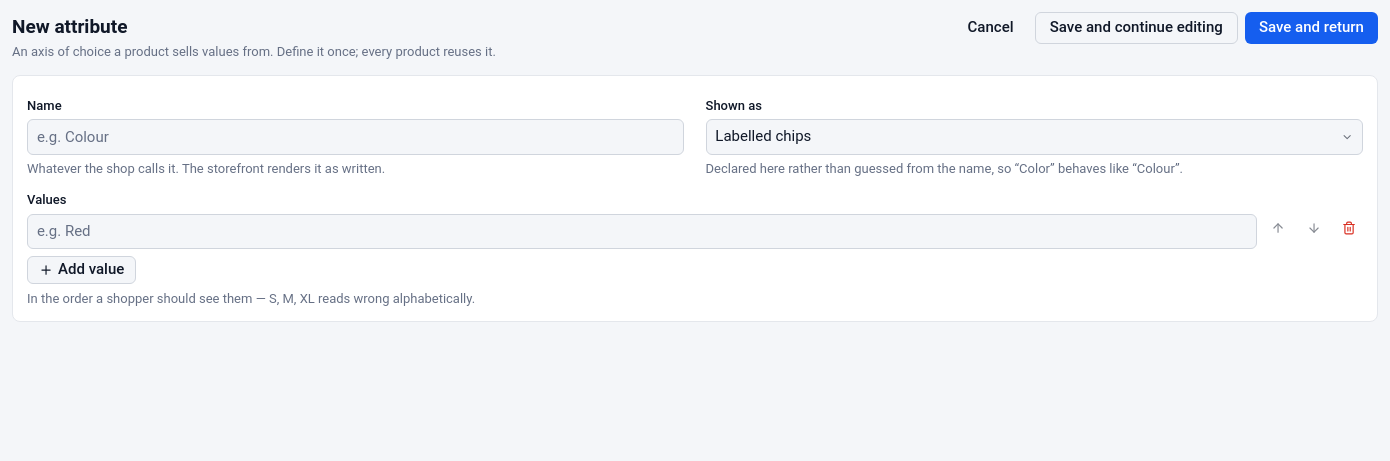
Scenario: AttributeFormPage — two values that read as the same choice › refuses "Red" twice, against the list, and keeps both rows
This screenshot has width=1390, height=461.
Type "Colour" into the field labelled "Name" at {"x": 356, "y": 137}, box [27,119,684,155]
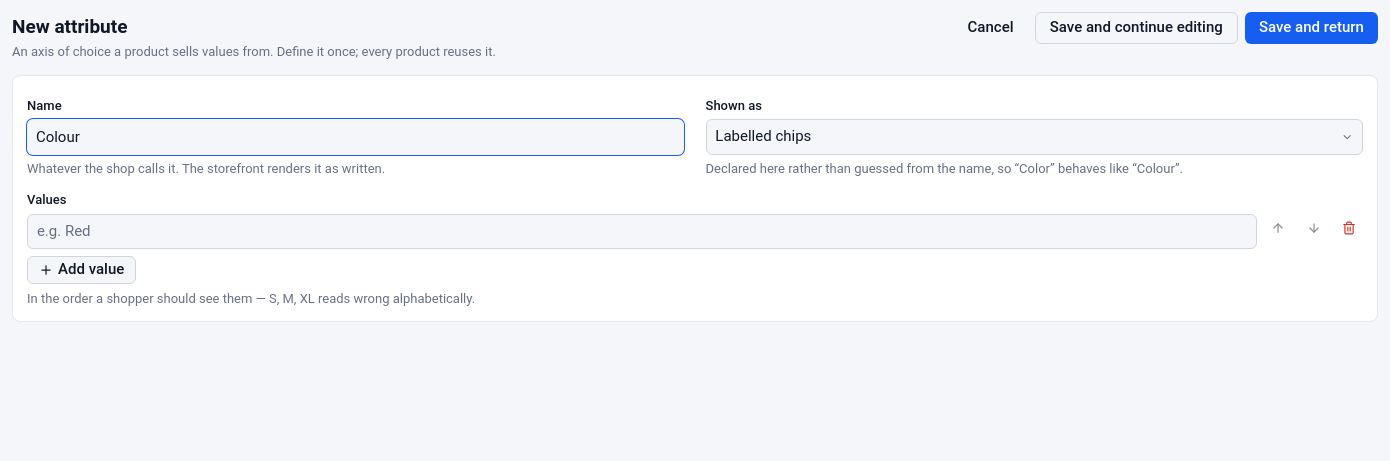
Type "Red" into the field named "Value 1" at {"x": 642, "y": 232}, box [27,214,1257,249]
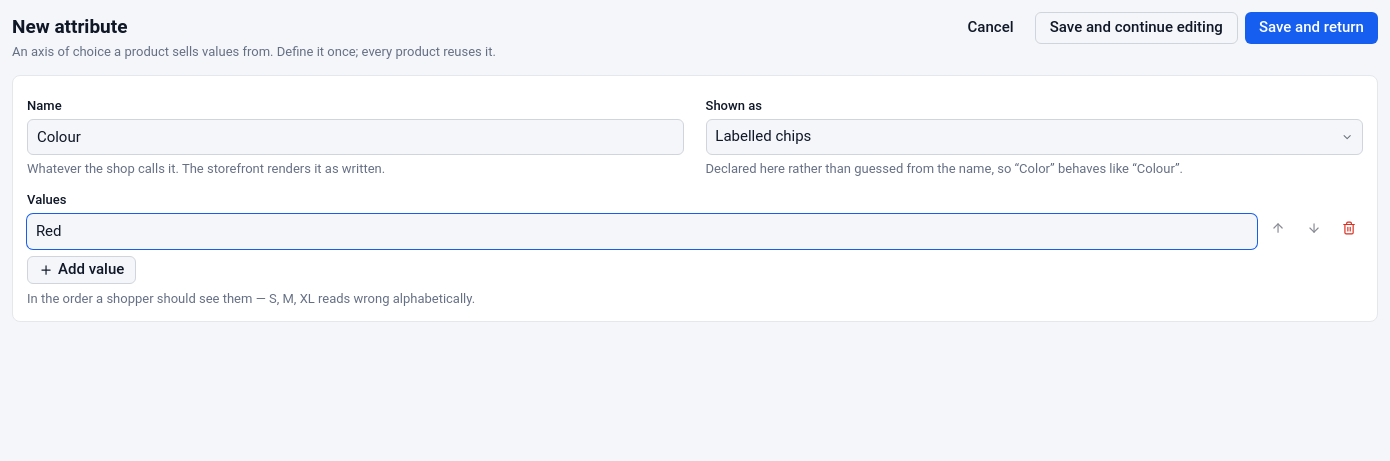
Click the button "Add value" at {"x": 82, "y": 270}, box [27,256,136,284]
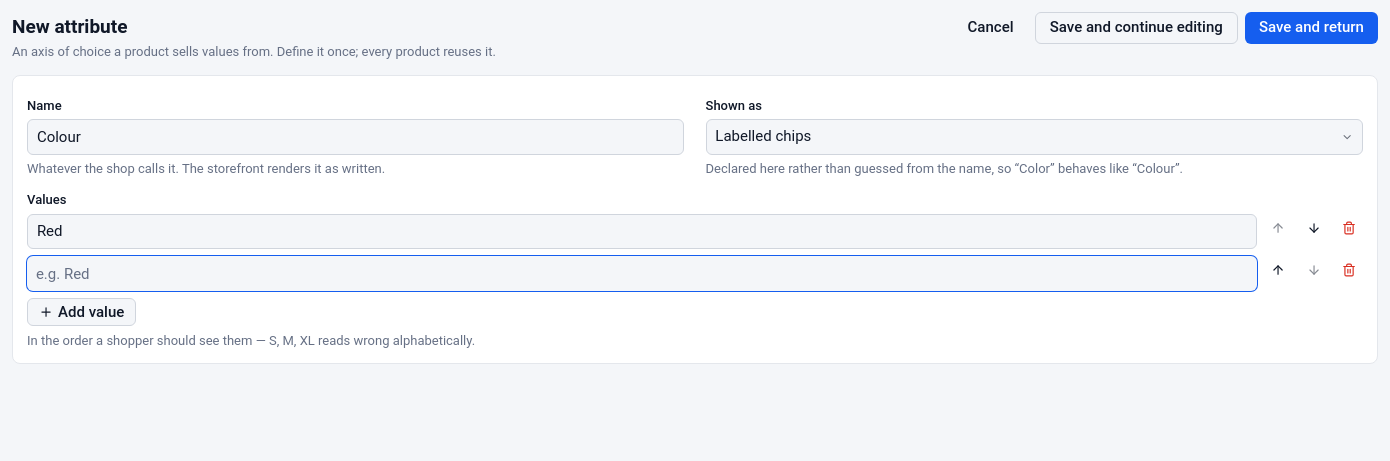
Type "Red" into the field with placeholder "e.g. Red" at {"x": 642, "y": 274}, box [27,256,1257,291]
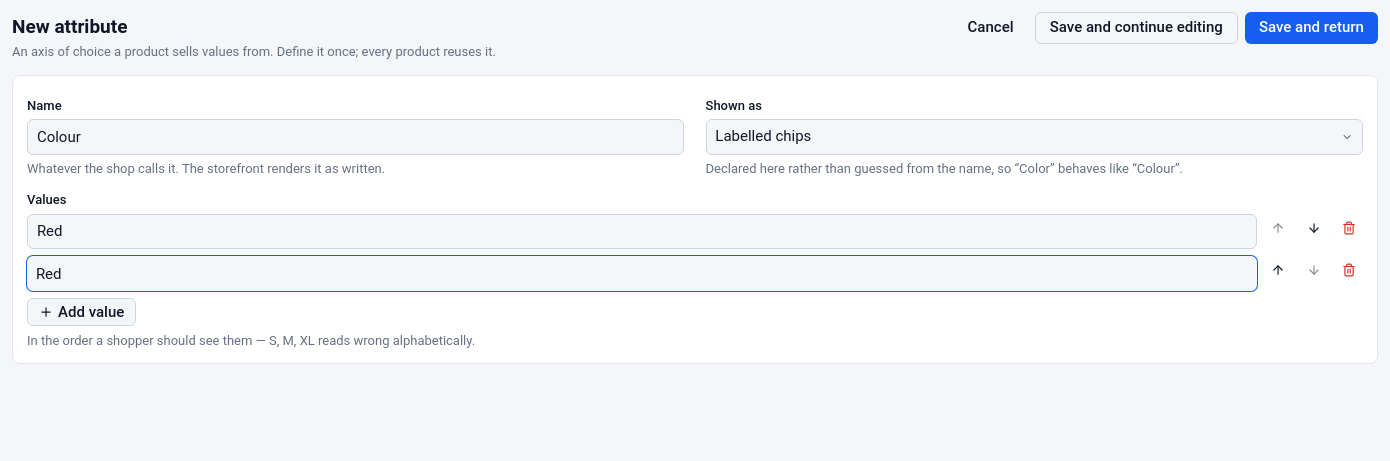
Click the button "Save and continue editing" at {"x": 1136, "y": 28}, box [1035,12,1238,44]
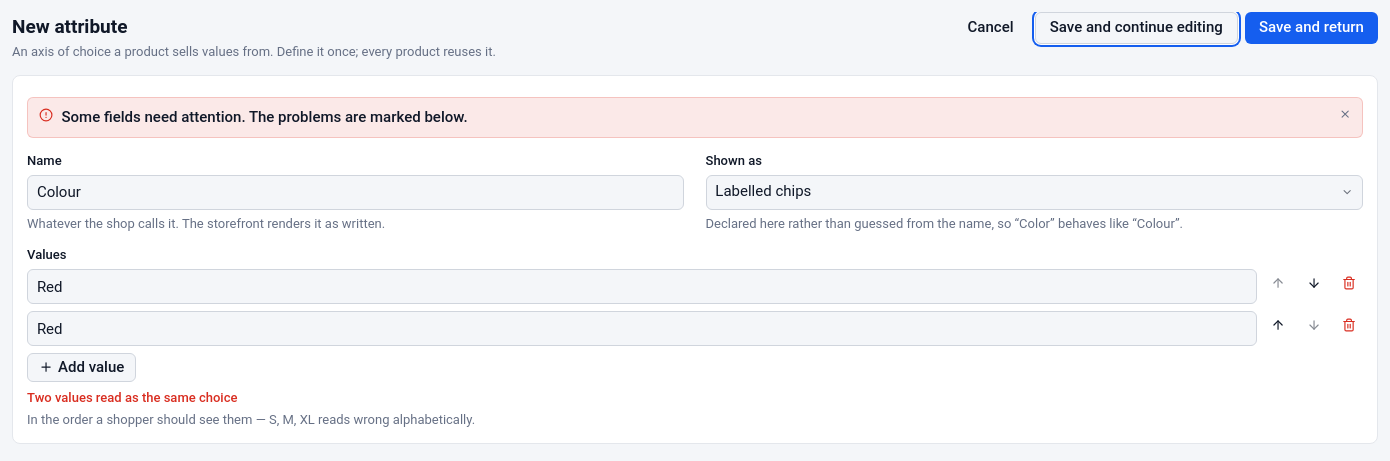
Expected: the text "Two values read as the same choice" is shown, [27,390,238,405]
